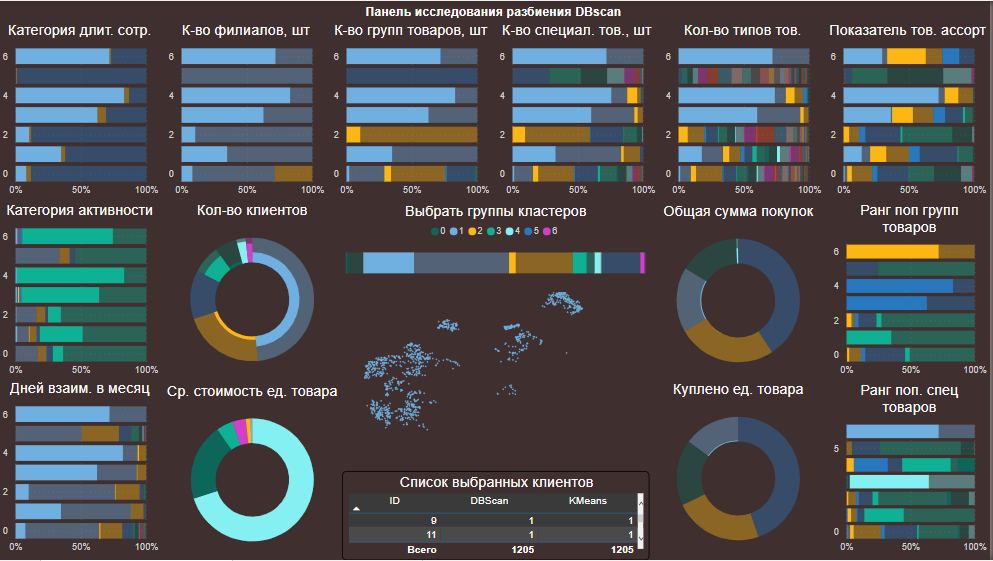

The dashboard page shown, as its layout file describes it:
{"tool":"powerbi","page":{"name":"Интерпритация по DBScan","canvas":[1280,720],"ordinal":1},"visuals":[{"type":"hundredPercentStackedBarChart","title":"К-во групп товаров, шт","fields":{"Category":["Clustering_results.DBScan"],"Y":["CountNonNull(Clustering_results.ID)"],"Series":["Clustering_results.К-во групп покупаемых товаров, шт"]},"box":[426.7,27.5,213.3,232.5],"z":0,"group":"g4"},{"type":"donutChart","title":"Кол-во клиентов","fields":{"Category":["Clustering_results.DBScan"],"Y":["CountNonNull(Clustering_results.ID)"]},"box":[213.8,258.8,230,230],"z":0,"group":"g3"},{"type":"scatterChart","title":"Карта кластеров","fields":{"X":["Sum(2d_mapping.component_1)"],"Y":["Sum(2d_mapping.component_2)"],"Category":["Clustering_results.ID"]},"box":[443.8,361.2,396.2,242.5],"z":0,"group":"g2"},{"type":"textbox","box":[426.3,0,426.3,43.8],"z":500},{"type":"hundredPercentStackedBarChart","title":"Дней взаим. в месяц","fields":{"Category":["Clustering_results.DBScan"],"Y":["CountNonNull(Clustering_results.ID)"],"Series":["Clustering_results.Дней взаимодействия в месяц"]},"box":[0,488.7,213.3,231.3],"z":1000,"group":"g4"},{"type":"tableEx","title":"Список выбранных клиентов","fields":{"Values":["Сводная клиентов.ID","CountNonNull(Clustering_results.DBScan)","CountNonNull(Clustering_results.KMeans)"]},"box":[443.8,605,396.2,115],"z":1000,"group":"g2"},{"type":"hundredPercentStackedBarChart","title":"К-во специал. тов., шт","fields":{"Category":["Clustering_results.DBScan"],"Y":["CountNonNull(Clustering_results.ID)"],"Series":["Clustering_results.К-во специализаций покупаемых товаров, шт"]},"box":[640,27.5,213.3,232.5],"z":2000,"group":"g4"},{"type":"hundredPercentStackedBarChart","title":"Выбрать группы кластеров","fields":{"Y":["CountNonNull(Clustering_results.ID)"],"Series":["Clustering_results.DBScan"]},"box":[443.8,260,396.2,101.2],"z":2000,"group":"g2"},{"type":"donutChart","title":"Общая сумма покупок","fields":{"Category":["Clustering_results.DBScan"],"Y":["Sum(Сводная клиентов.Сумма покупок за все время, руб)"]},"box":[840,260,230,230],"z":2000,"group":"g3"},{"type":"hundredPercentStackedBarChart","title":"Категория активности","fields":{"Category":["Clustering_results.DBScan"],"Y":["CountNonNull(Clustering_results.ID)"],"Series":["Сводная клиентов.Категория активности клиента"]},"box":[0,258.8,213.3,232.5],"z":3000,"group":"g4"},{"type":"donutChart","title":"Ср. стоимость ед. товара","fields":{"Category":["Clustering_results.DBScan"],"Y":["Avg(Сводная клиентов.Средняя стоимость товара, руб)"]},"box":[213.8,491.3,230,228.8],"z":3000,"group":"g3"},{"type":"hundredPercentStackedBarChart","title":"Кол-во типов тов.","fields":{"Category":["Clustering_results.DBScan"],"Y":["CountNonNull(Clustering_results.ID)"],"Series":["Clustering_results.Кол-во типов покупаемых товаров, шт"]},"box":[853.3,27.5,213.3,232.5],"z":4000,"group":"g4"},{"type":"donutChart","title":"Куплено ед. товара","fields":{"Category":["Clustering_results.DBScan"],"Y":["Sum(Сводная клиентов.Общее к-во покупок за все время, шт)"]},"box":[840,488.8,230,230],"z":4000,"group":"g3"},{"type":"hundredPercentStackedBarChart","title":"Категория длит.  сотр.","fields":{"Category":["Clustering_results.DBScan"],"Y":["CountNonNull(Clustering_results.ID)"],"Series":["Сводная клиентов.Показатель количества загазов"]},"box":[0,27.5,213.3,232.5],"z":5000,"group":"g4"},{"type":"group","id":"g1","title":"Группа 3","box":[0,27.5,1280,692.5],"z":6000},{"type":"hundredPercentStackedBarChart","title":"Показатель тов. ассорт","fields":{"Category":["Clustering_results.DBScan"],"Y":["CountNonNull(Clustering_results.ID)"],"Series":["Clustering_results.Товарный ассортимент, шт"]},"box":[1066.7,27.5,213.3,232.5],"z":6000,"group":"g4"},{"type":"hundredPercentStackedBarChart","title":"К-во филиалов, шт","fields":{"Category":["Clustering_results.DBScan"],"Y":["CountNonNull(Clustering_results.ID)"],"Series":["Clustering_results.К-во филиалов, шт"]},"box":[213.3,27.5,213.3,232.5],"z":7000,"group":"g4"},{"type":"group","id":"g2","title":"Группа 2","box":[443.8,260,396.2,460],"z":7002,"group":"g3"},{"type":"group","id":"g3","title":"Группа 4","box":[213.8,258.8,856.2,461.2],"z":7003},{"type":"hundredPercentStackedBarChart","title":"Ранг поп групп товаров","fields":{"Category":["Clustering_results.DBScan"],"Series":["Clustering_results.Ранг популярности групп товаров"],"Y":["CountNonNull(Clustering_results.ID)"]},"box":[1070,258.7,210,232.5],"z":10000,"group":"g1"},{"type":"group","id":"g4","title":"Группа 1","box":[0,27.5,1280,692.5],"z":11000,"group":"g1"},{"type":"hundredPercentStackedBarChart","title":"Ранг поп. спец товаров","fields":{"Category":["Clustering_results.DBScan"],"Y":["CountNonNull(Clustering_results.ID)"],"Series":["Clustering_results.Ранг популярности спец товаров"]},"box":[1070,491.3,210,228.8],"z":12000,"group":"g1"}]}

Visuals, with their boxes in screenshot pixels (x1, y1, x2, y2), scaled from the page's 1280x720 canvas onto the 993x561 screenshot:
"К-во групп товаров, шт" hundredPercentStackedBarChart: l=331, t=21, r=496, b=203
"Кол-во клиентов" donutChart: l=166, t=202, r=344, b=381
"Карта кластеров" scatterChart: l=344, t=281, r=652, b=470
textbox: l=331, t=0, r=661, b=34
"Дней взаим. в месяц" hundredPercentStackedBarChart: l=0, t=381, r=165, b=560
"Список выбранных клиентов" tableEx: l=344, t=471, r=652, b=560
"К-во специал. тов., шт" hundredPercentStackedBarChart: l=496, t=21, r=662, b=203
"Выбрать группы кластеров" hundredPercentStackedBarChart: l=344, t=203, r=652, b=281
"Общая сумма покупок" donutChart: l=652, t=203, r=830, b=382
"Категория активности" hundredPercentStackedBarChart: l=0, t=202, r=165, b=383
"Ср. стоимость ед. товара" donutChart: l=166, t=383, r=344, b=560
"Кол-во типов тов." hundredPercentStackedBarChart: l=662, t=21, r=827, b=203
"Куплено ед. товара" donutChart: l=652, t=381, r=830, b=560
"Категория длит.  сотр." hundredPercentStackedBarChart: l=0, t=21, r=165, b=203
"Группа 3" group: l=0, t=21, r=992, b=560
"Показатель тов. ассорт" hundredPercentStackedBarChart: l=828, t=21, r=992, b=203
"К-во филиалов, шт" hundredPercentStackedBarChart: l=165, t=21, r=331, b=203
"Группа 2" group: l=344, t=203, r=652, b=560
"Группа 4" group: l=166, t=202, r=830, b=560
"Ранг поп групп товаров" hundredPercentStackedBarChart: l=830, t=202, r=992, b=383
"Группа 1" group: l=0, t=21, r=992, b=560
"Ранг поп. спец товаров" hundredPercentStackedBarChart: l=830, t=383, r=992, b=560
